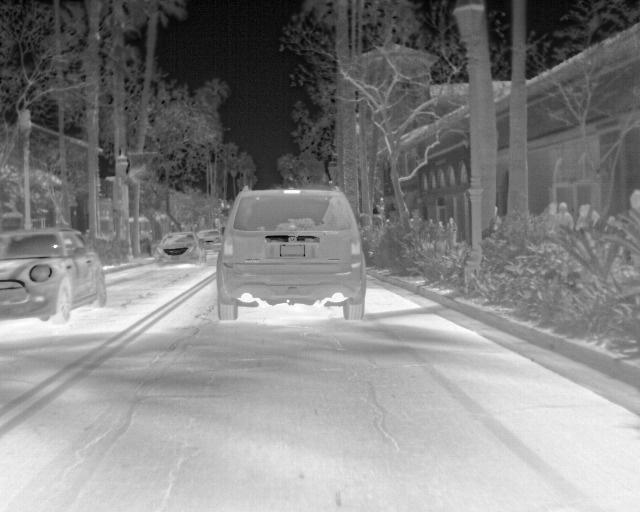bicycle: (218, 185, 366, 321), (0, 228, 106, 322), (152, 230, 207, 266), (196, 228, 222, 250)
empty: (575, 202, 601, 231), (554, 202, 575, 232), (435, 218, 449, 254), (424, 217, 437, 254), (443, 218, 459, 248), (545, 202, 560, 222), (627, 188, 639, 210)
